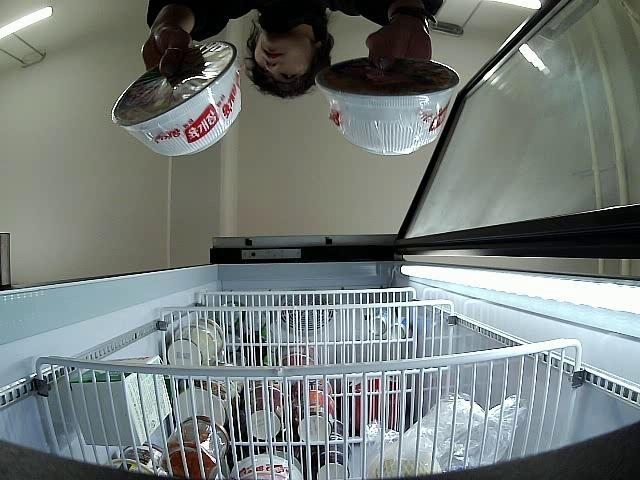09_yukGaeJang: (112, 40, 240, 157), (317, 55, 460, 156)
